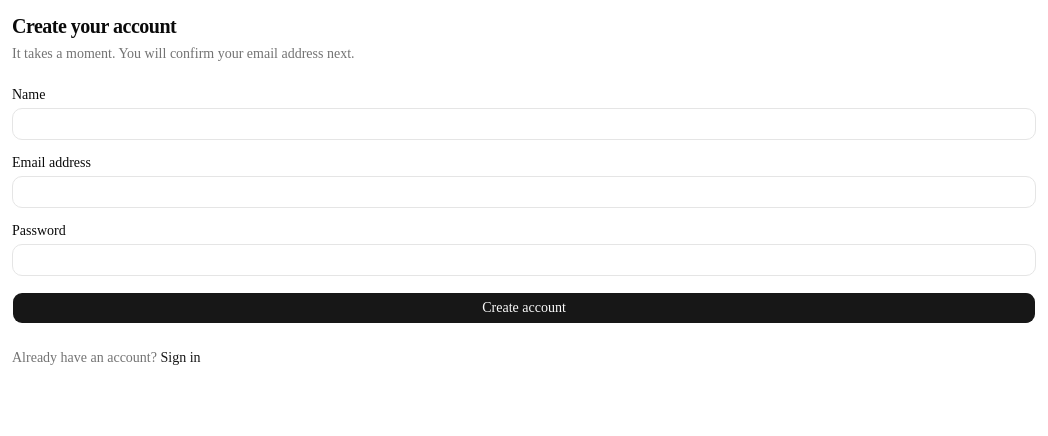
Test: SignUpForm › keeps the form on screen when registration fails
The width and height of the screenshot is (1048, 436).
Type "Ada Lovelace" into the field labelled "Name" at {"x": 524, "y": 124}, box [12,108,1036,140]
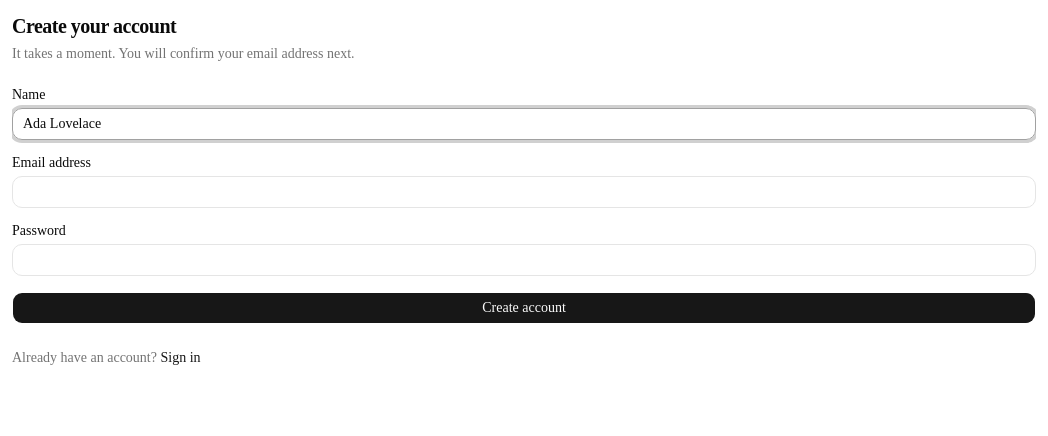
Type "ada@example.com" into the field labelled "Email address" at {"x": 524, "y": 192}, box [12,176,1036,208]
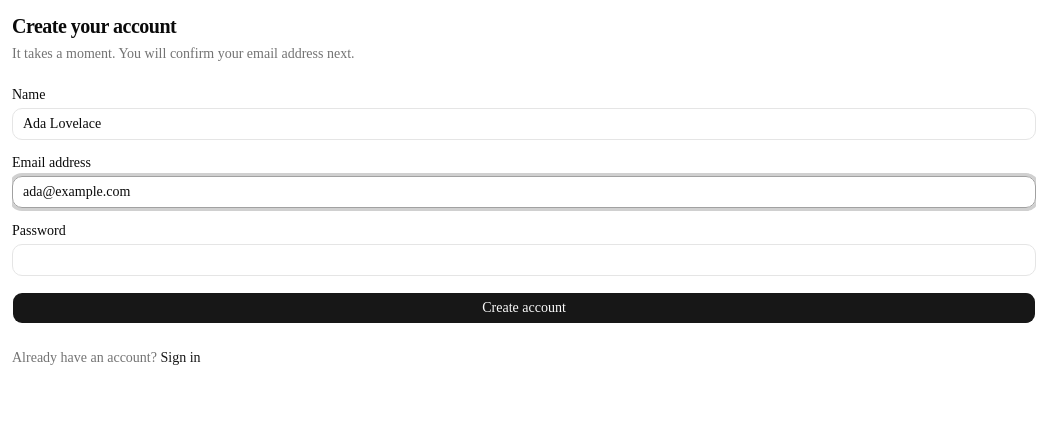
Type "a long enough password" into the password field labelled "Password" at {"x": 524, "y": 260}, box [12,244,1036,276]
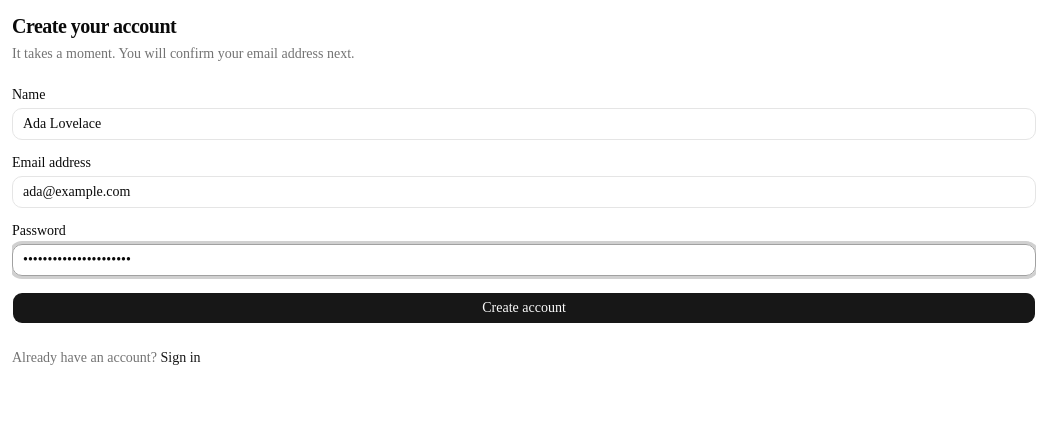
Click the button "Create account" at {"x": 524, "y": 308}, box [12,292,1036,324]
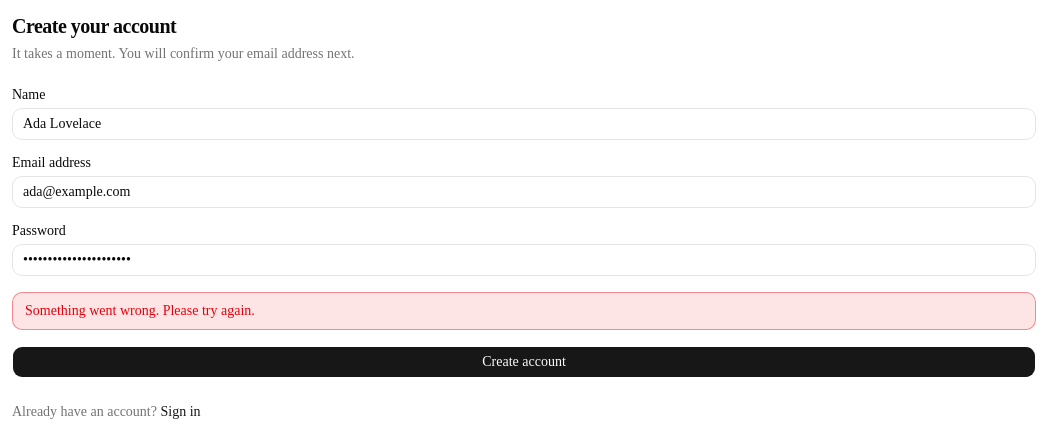
Expected: the text "Something went wrong. Please try again." is shown, [12,292,1036,330]
